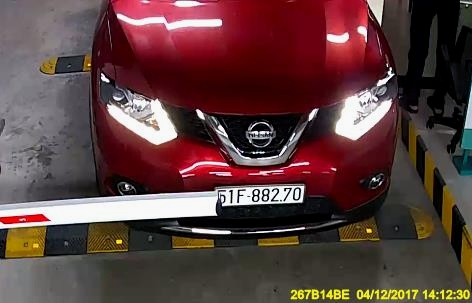plate: (213, 184, 305, 207)
